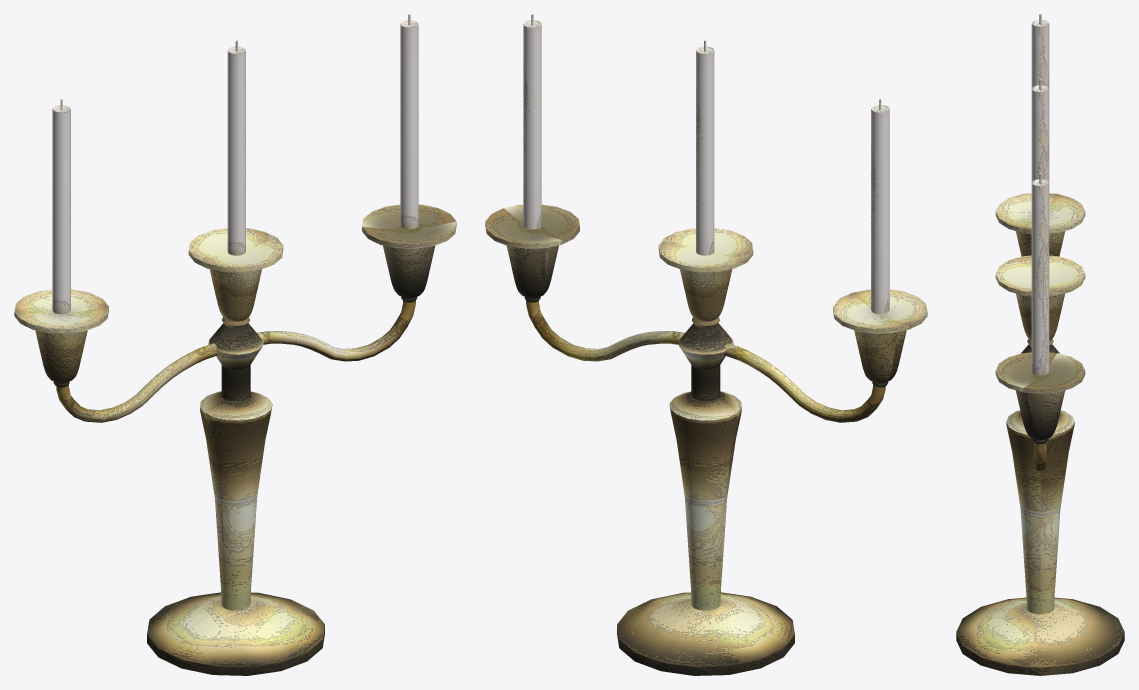
File: BGMD_Candle.fbx
3 renders of one model, left to right at view 1: azimuth 30°, elevation 25°; view 2: azimuth 150°, elevation 25°; view 3: azimuth 270°, elevation 25°, orthographic. The views are drawn at different scales.
Visible parts, largest first — view 1: BGMD_Candle; view 2: BGMD_Candle; view 3: BGMD_Candle.
Part boxes in pixels (box(x1,y1,x2,y2)): BGMD_Candle: box(14, 14, 456, 675); BGMD_Candle: box(485, 14, 927, 675); BGMD_Candle: box(956, 14, 1124, 675).
Size of the model in its own units: 26.26 by 34.85 by 9.49.
